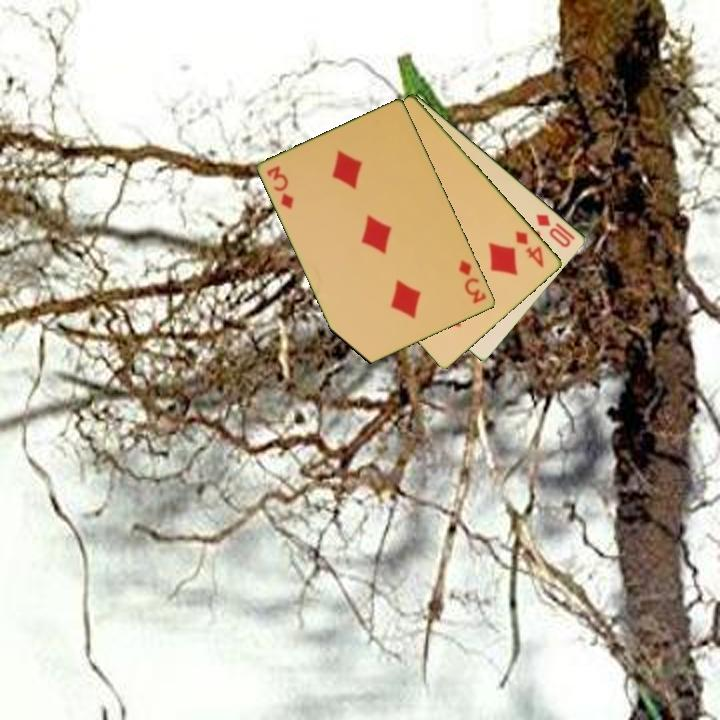10d: (533, 210, 574, 251)
3d: (455, 257, 490, 307), (263, 162, 297, 212)
4d: (512, 227, 547, 271)
